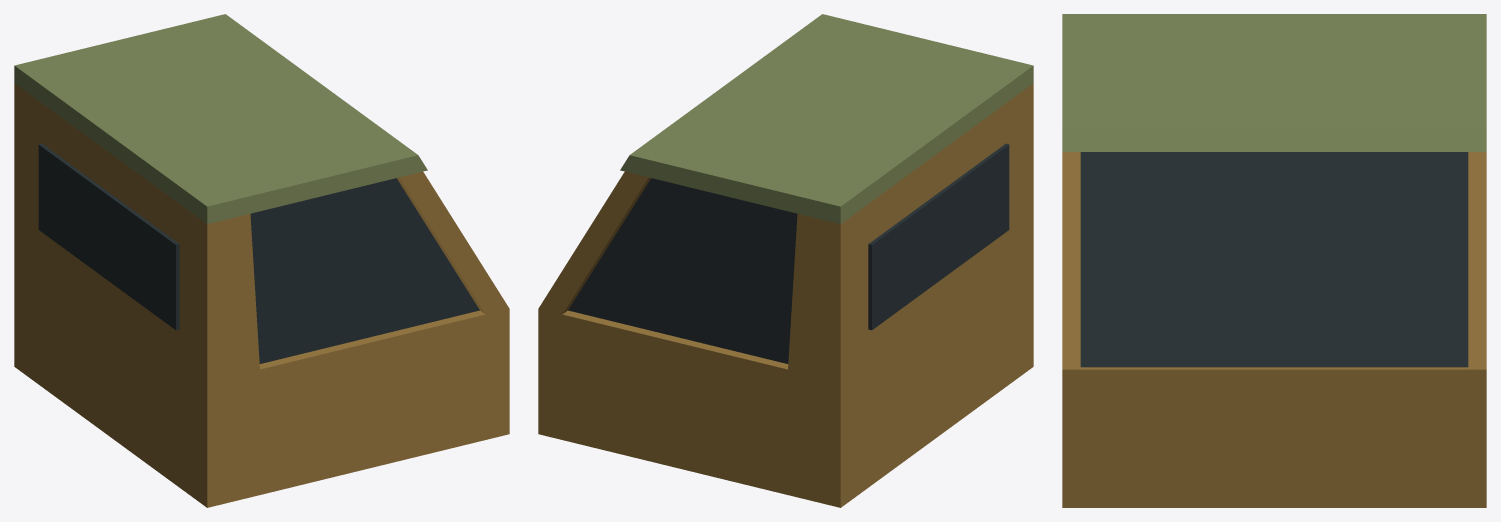
File: cab_pickup.glb
The picture shows the model from 3 angles, left to right: view 1: azimuth 30°, elevation 25°; view 2: azimuth 150°, elevation 25°; view 3: azimuth 270°, elevation 25°; orthographic projection. The views are drawn at different scales.
Parts seen in each view (by area): view 1: cab_pickup; view 2: cab_pickup; view 3: cab_pickup.
Boxes of the visible parts, <box> form: cab_pickup: <box>14,14,509,507</box>; cab_pickup: <box>538,14,1033,507</box>; cab_pickup: <box>1062,14,1486,507</box>.
Size of the model in its own units: 1.27 by 1.2 by 1.39.
